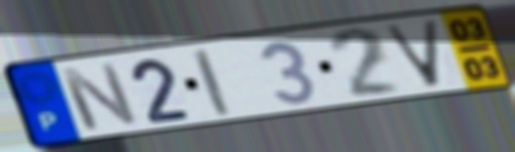2: (327, 24, 407, 102), (125, 53, 199, 129)
3: (257, 37, 319, 107)
I: (188, 45, 235, 119)
N: (55, 61, 143, 133)
V: (379, 17, 444, 90)
